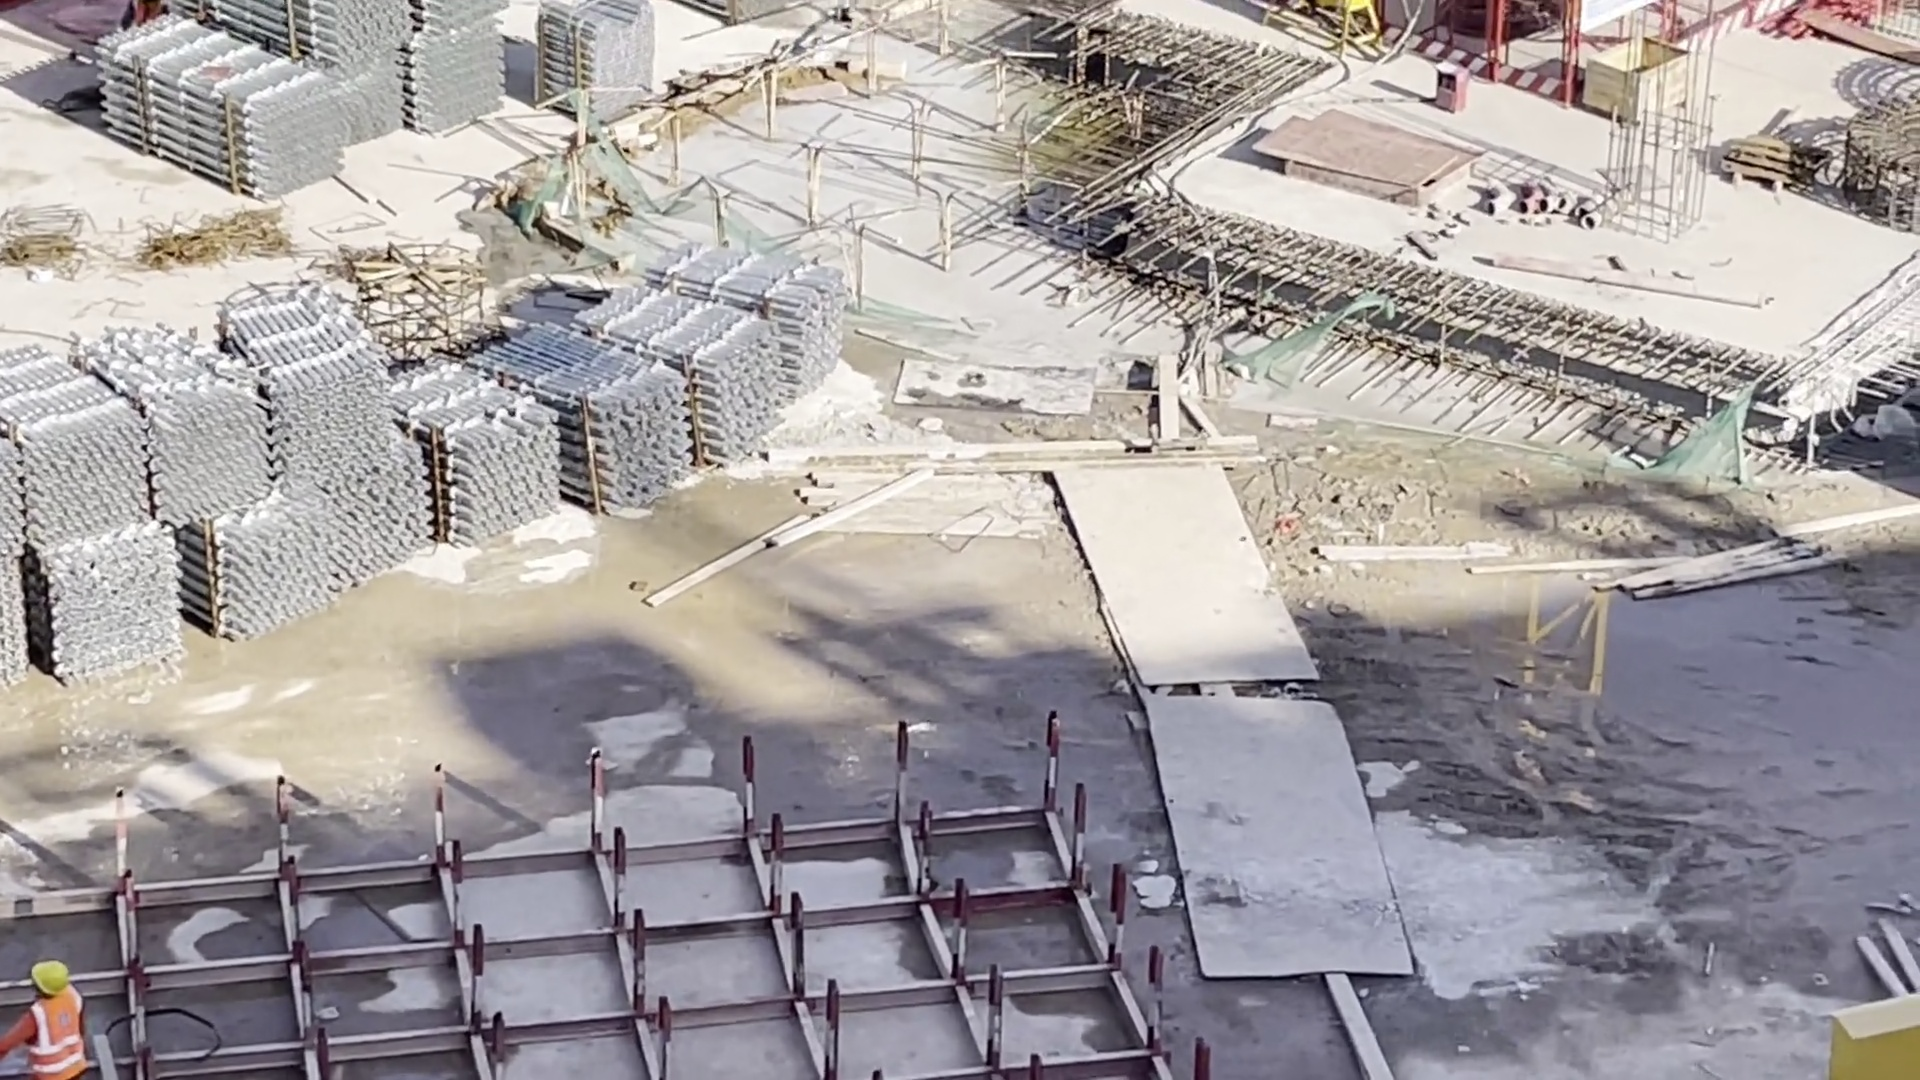board: (1253, 90, 1490, 213)
helmet: (17, 953, 70, 999)
person: (5, 956, 99, 1080)
scaffold: (1, 236, 865, 677), (121, 2, 528, 202), (538, 1, 654, 131)
vest: (26, 994, 93, 1073)
